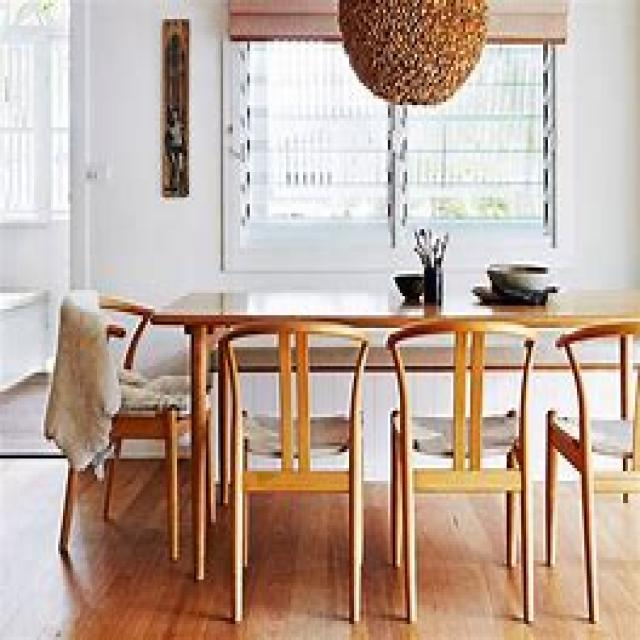chair: (216, 318, 368, 624), (385, 318, 536, 624), (543, 318, 638, 621)
table: (143, 283, 638, 618)
